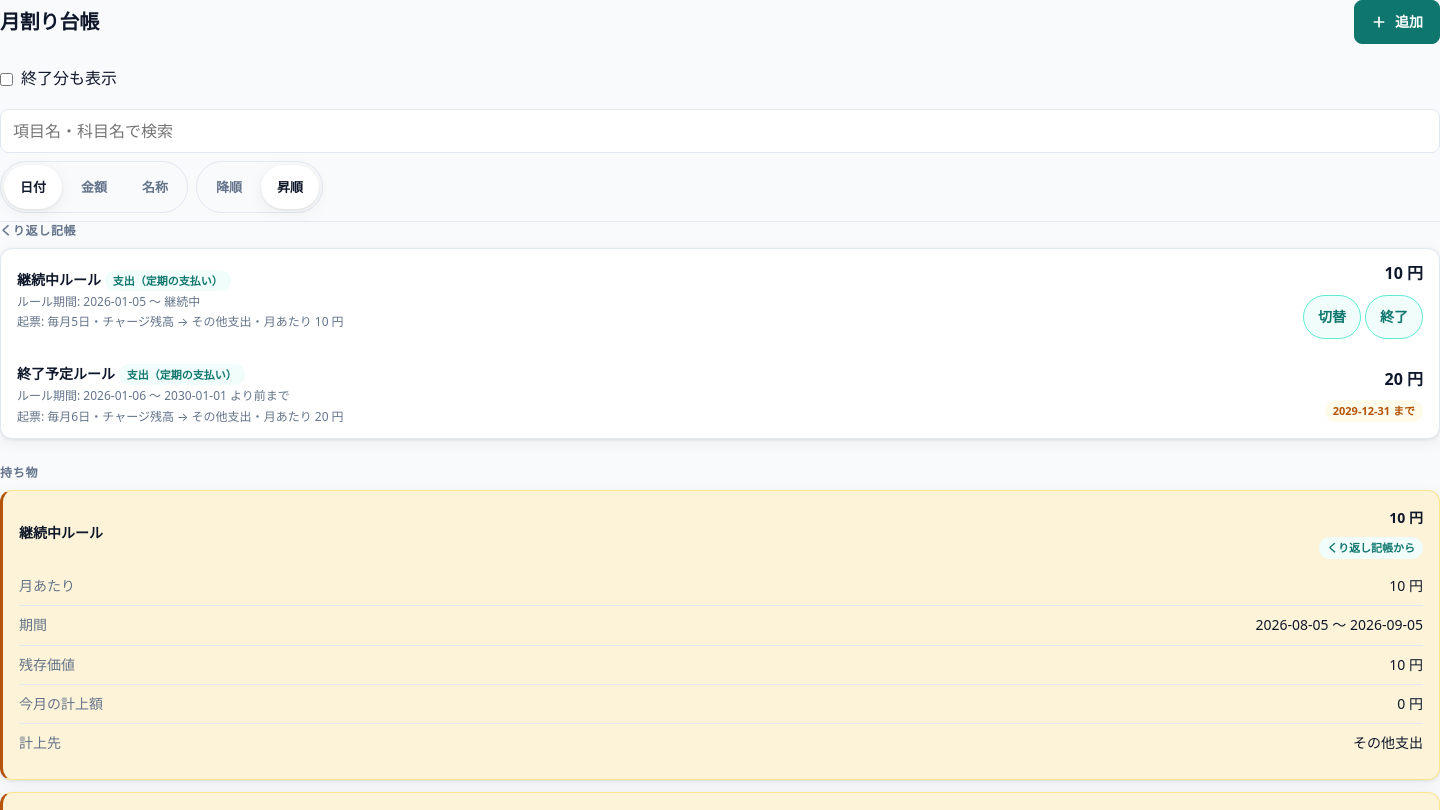
Test: 行の設計図（右端列・tonal ボタン・状態チップ） › ルール行は右列に金額・操作を積み、全行の右端が揃う
「終了分も表示」で 3 行そろえる。
Click the checkbox labelled "終了分も表示" at (6, 79), box top-left (0, 72), bottom-right (13, 86)
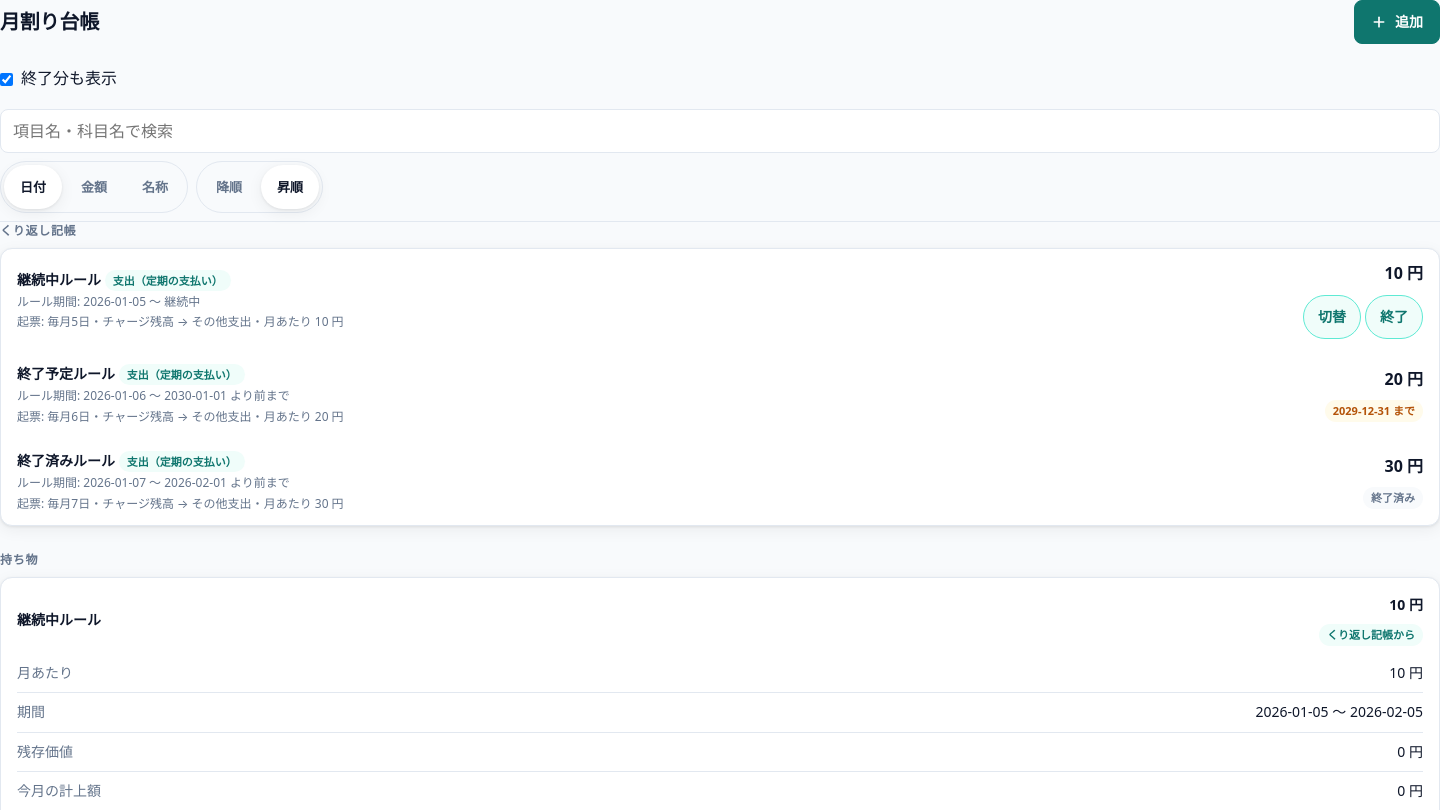
expect the element with class "list__amount" showing "30 円" is shown: met, box top-left (1384, 454), bottom-right (1423, 479)
